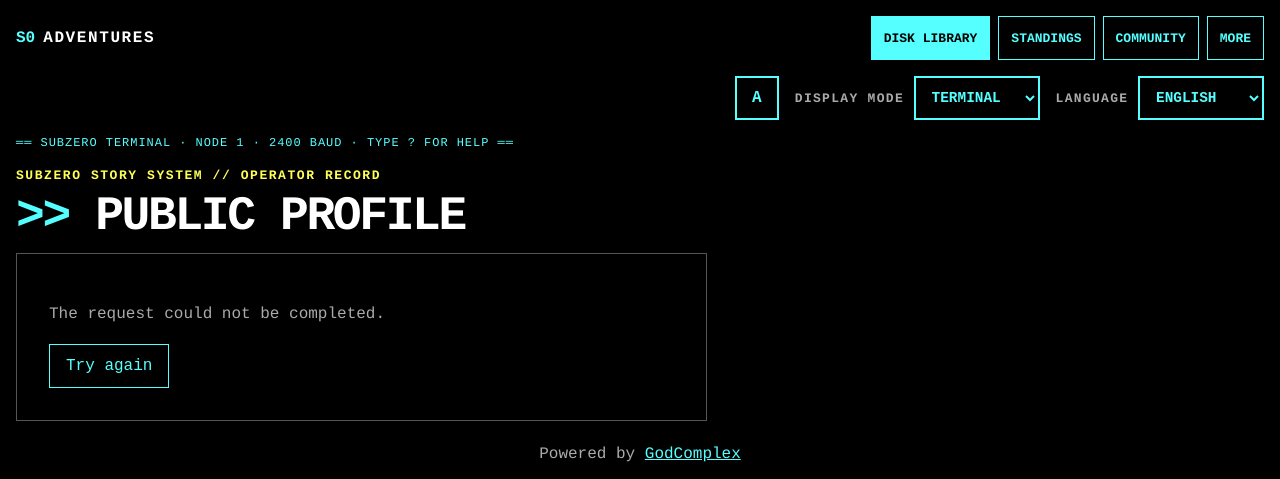
keeps a public-profile server failure distinct from private or missing, and retries
The image size is (1280, 479).
Expected: the message does not show "No public profile", [16, 253, 707, 421]
Click the button "Try again" at point(109, 366), box [49, 344, 169, 388]
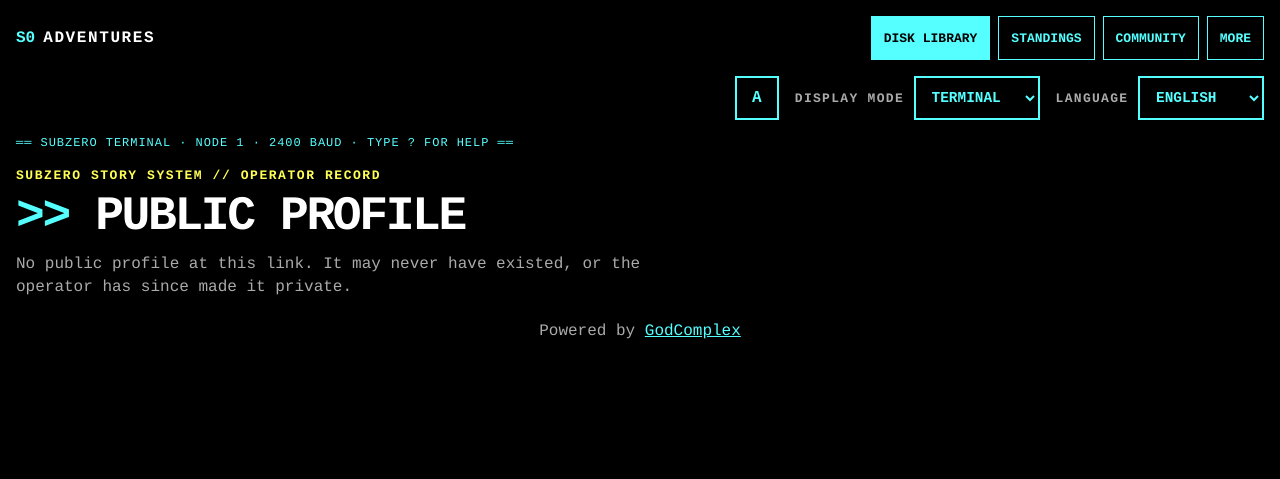
Result: the text "No public profile at this link" is shown at [16, 255, 640, 296]
